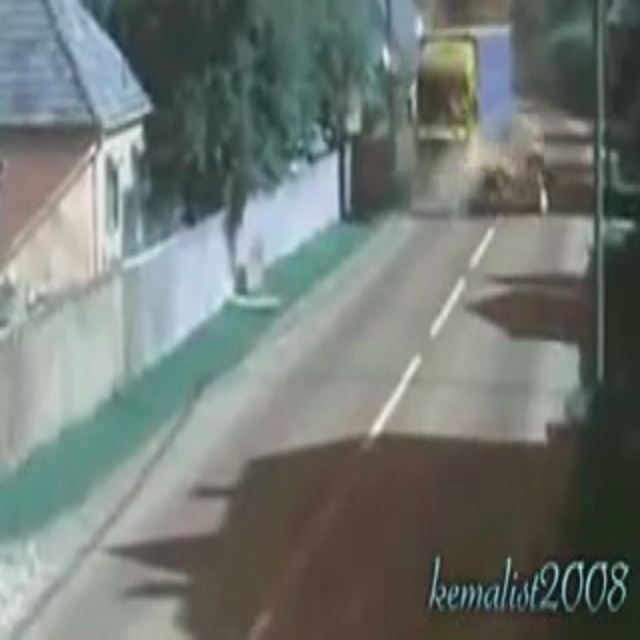acc: (401, 119, 562, 226)
